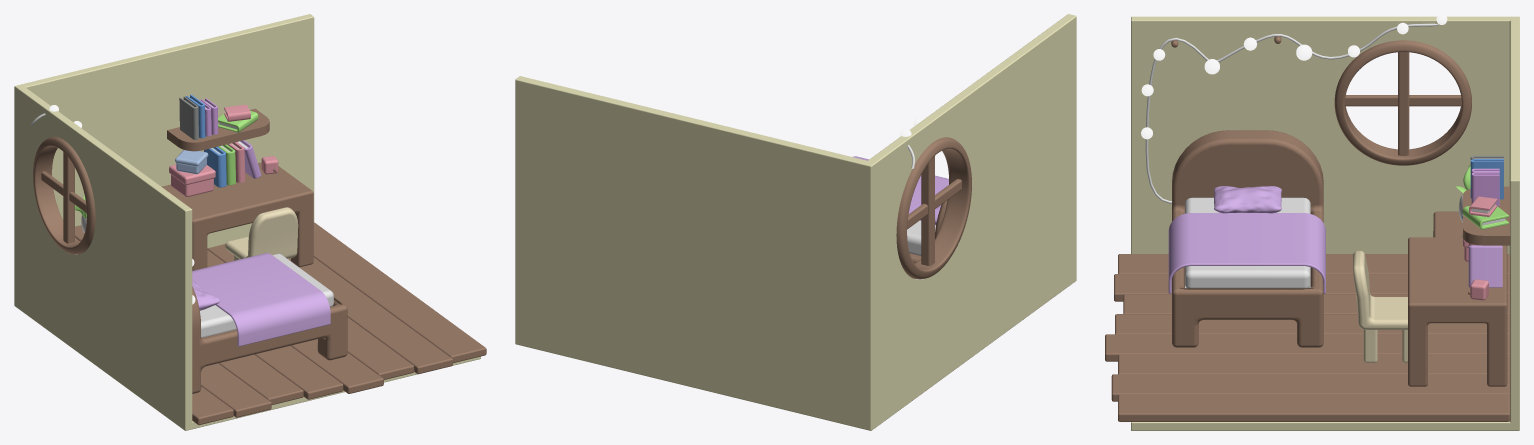
Rendered from bedroom_03.glb.
3 renders of one model, left to right at view 1: azimuth 30°, elevation 25°; view 2: azimuth 150°, elevation 25°; view 3: azimuth 270°, elevation 25°, orthographic. The views are drawn at different scales.
Visible parts, largest first — view 1: Cube, Cube.001, Cube.004, Cube.006, Cube.002, Cylinder, Cube.008, Cube.011, Cube.003, Cube.017, Cube.020, Cube.012 (+5 smaller); view 2: Cube, Cylinder, Cube.017, Cube.025; view 3: Cube, Cube.001, Cube.002, Cube.006, Cube.004, Cylinder, Cube.003, Cube.008, Cube.005, Cube.011, Cube.018, BezierCurve.001 (+8 smaller).
Boxes of the visible parts, x1,y1,x2,y2 form: Cube: (14, 14, 480, 430); Cube.001: (192, 222, 486, 425); Cube.004: (192, 253, 330, 346); Cube.006: (161, 162, 313, 270); Cube.002: (192, 286, 347, 393); Cylinder: (33, 137, 95, 254); Cube.008: (225, 207, 298, 259); Cube.011: (167, 108, 269, 151); Cube.003: (200, 253, 333, 337); Cube.017: (63, 152, 74, 243); Cube.020: (179, 96, 198, 139); Cube.012: (204, 146, 226, 187); Cube: (515, 14, 1076, 430); Cylinder: (896, 137, 971, 279); Cube.017: (921, 156, 934, 265); Cube.025: (907, 179, 961, 228); Cube: (1131, 16, 1519, 430); Cube.001: (1105, 254, 1510, 421); Cube.002: (1172, 130, 1323, 347); Cube.006: (1408, 237, 1507, 386); Cube.004: (1168, 213, 1325, 293); Cylinder: (1334, 40, 1471, 165); Cube.003: (1185, 197, 1310, 288); Cube.008: (1353, 250, 1407, 329); Cube.005: (1214, 186, 1281, 213); Cube.011: (1463, 186, 1510, 245); Cube.018: (1468, 245, 1502, 287); BezierCurve.001: (1145, 23, 1438, 203).
Bounding box in the file's own units: 4.13 × 2.9 × 4.27.
